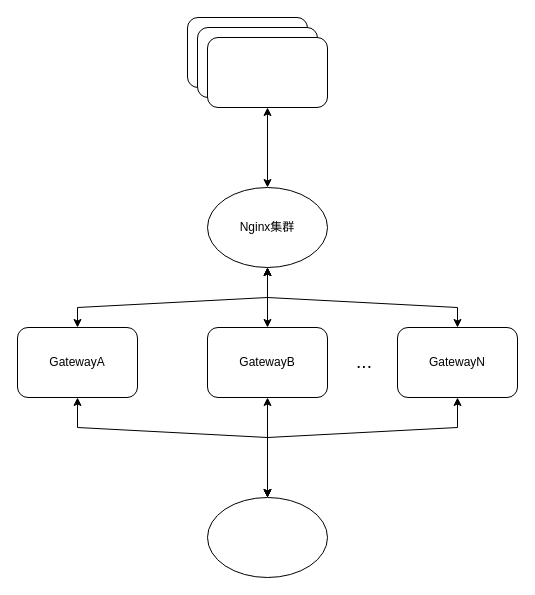
The diagram is 535 pixels wide and 595 high, and some of its shapes have lost their labels. Each missing label, with the centre of its shape:
"Client" belongs at (x=267, y=72).
"Nacos集群" belongs at (x=267, y=537).
